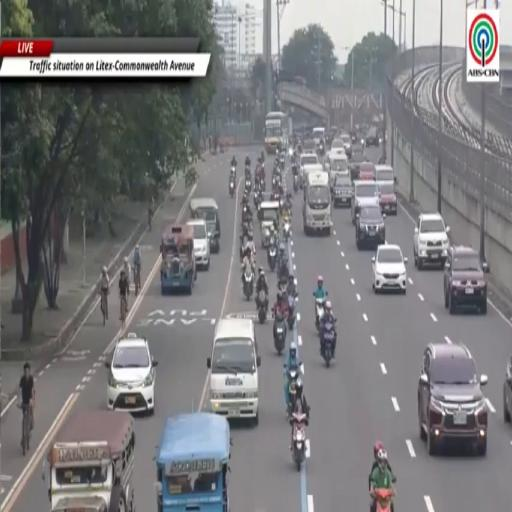bus: (265, 111, 290, 153)
car: (418, 343, 488, 456), (105, 333, 157, 413), (444, 246, 489, 314), (414, 213, 449, 269), (372, 244, 408, 294), (356, 204, 385, 249), (351, 181, 380, 225), (187, 219, 210, 270), (299, 153, 318, 187), (332, 174, 352, 206), (378, 182, 397, 215), (350, 149, 368, 180), (503, 357, 511, 423), (376, 165, 396, 183), (358, 162, 375, 180), (365, 127, 379, 147), (340, 134, 351, 158), (329, 138, 345, 154)
jeepney: (43, 410, 135, 511), (155, 412, 230, 511), (161, 226, 196, 295), (189, 198, 220, 253), (259, 201, 279, 248)
motorcycle: (290, 412, 308, 471), (321, 319, 336, 367), (287, 367, 299, 417), (273, 312, 286, 355), (373, 489, 393, 511), (257, 289, 269, 324), (243, 269, 253, 300), (287, 295, 296, 329), (267, 244, 277, 272), (277, 259, 289, 282), (316, 298, 324, 331), (282, 220, 291, 242), (240, 234, 246, 262), (278, 280, 286, 296), (293, 174, 299, 193), (254, 188, 260, 206), (229, 180, 235, 198), (318, 143, 325, 156), (245, 179, 251, 194), (280, 155, 285, 170), (245, 164, 250, 177), (231, 166, 236, 179), (292, 163, 297, 175)
